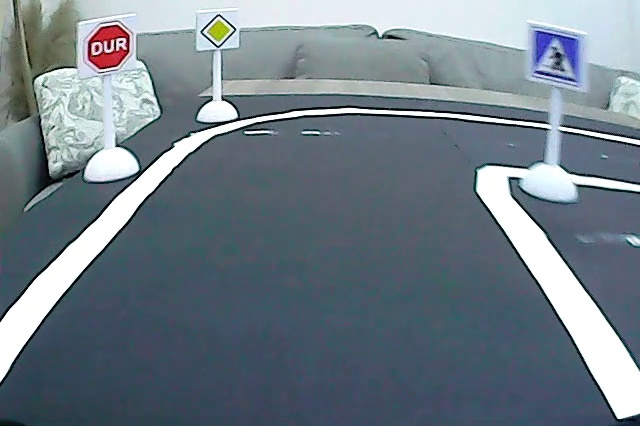pedestrian crossing: (531, 26, 583, 89)
stop sign: (83, 20, 134, 75)
